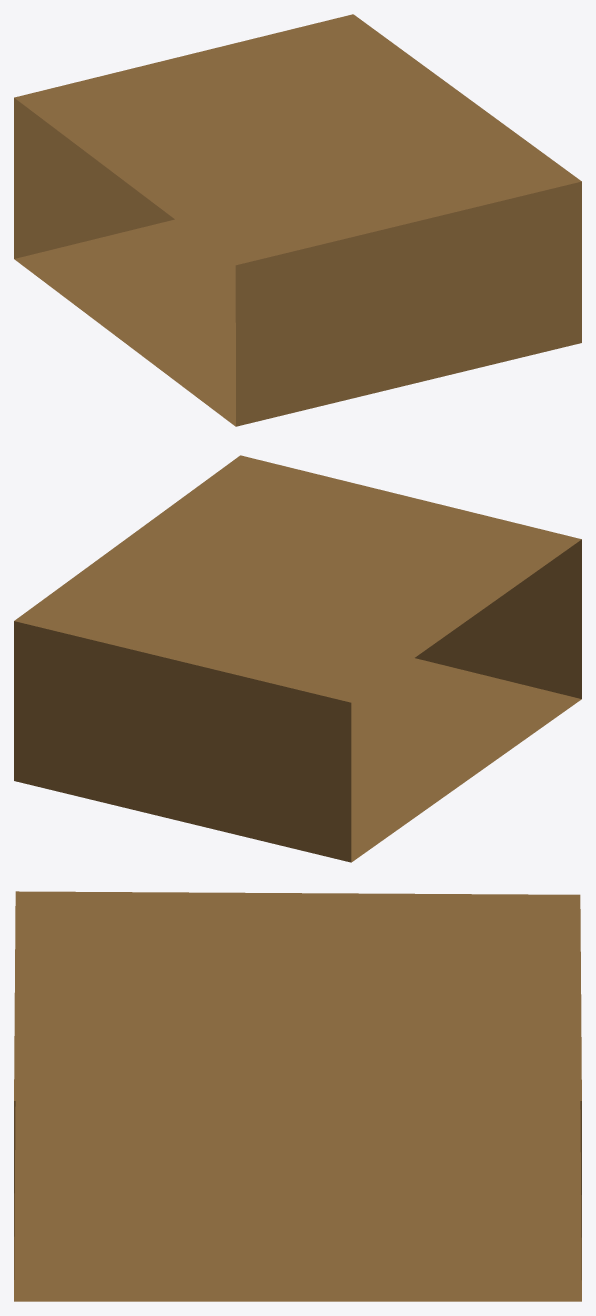
Rendered from TunnelPiece.fbx.
3 renders of one model, top to bottom at view 1: azimuth 30°, elevation 25°; view 2: azimuth 150°, elevation 25°; view 3: azimuth 270°, elevation 25°, orthographic. The views are drawn at different scales.
Visible parts, largest first — view 1: Pathway; view 2: Pathway; view 3: Pathway.
Part boxes in pixels (left/top/right/bottom): Pathway: left=14, top=14, right=581, bottom=426; Pathway: left=14, top=455, right=581, bottom=862; Pathway: left=14, top=891, right=581, bottom=1301.
Bounding box in the file's own units: 511 × 228 × 586.
